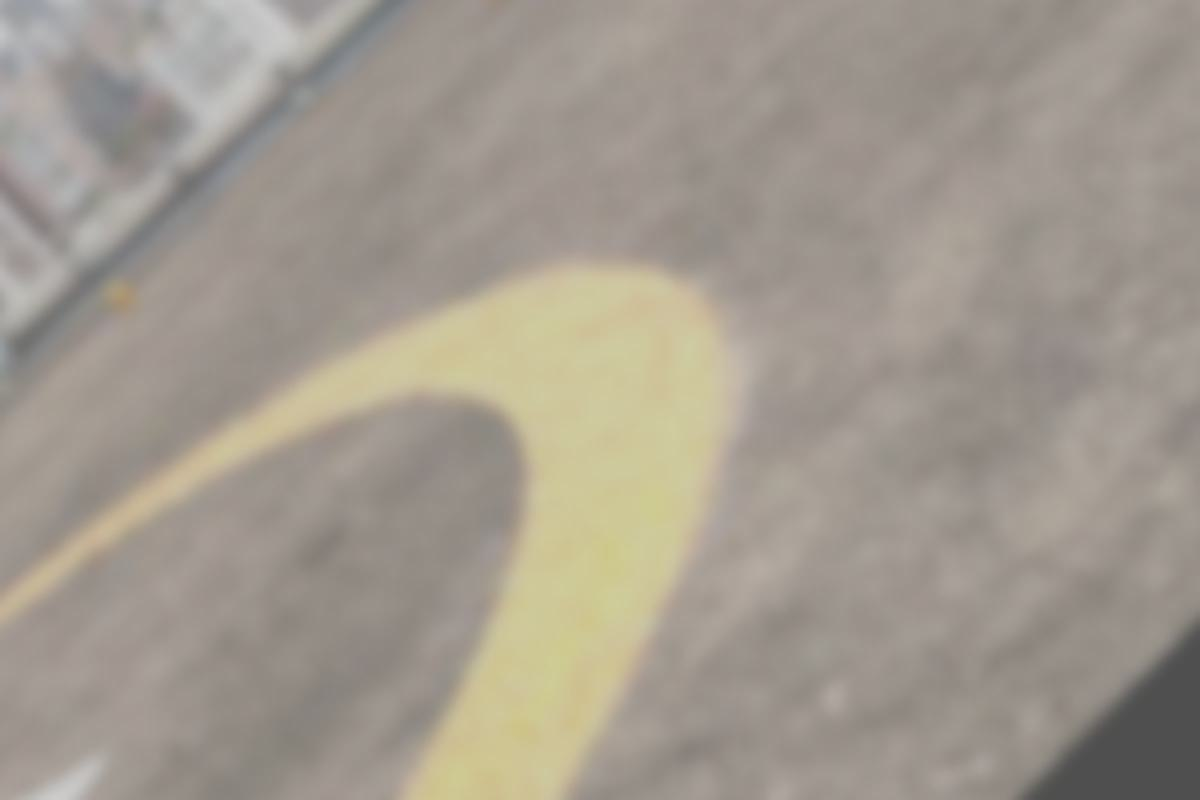Apron: (2, 262, 748, 800)
